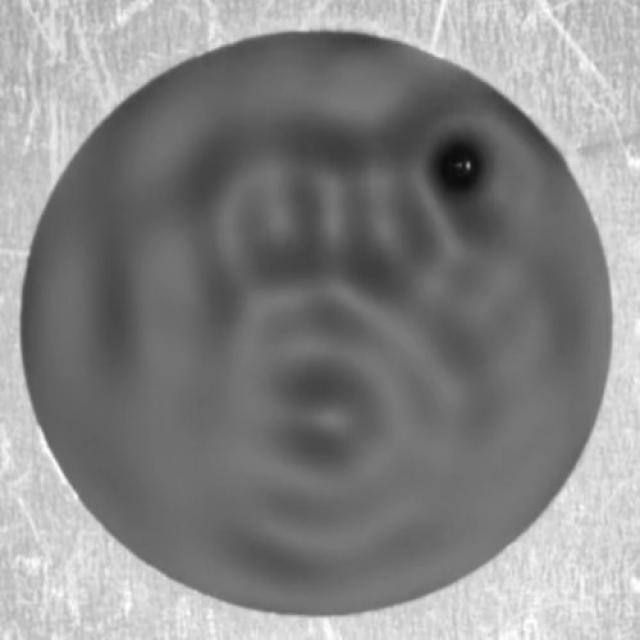droplet: (438, 148, 483, 194)
